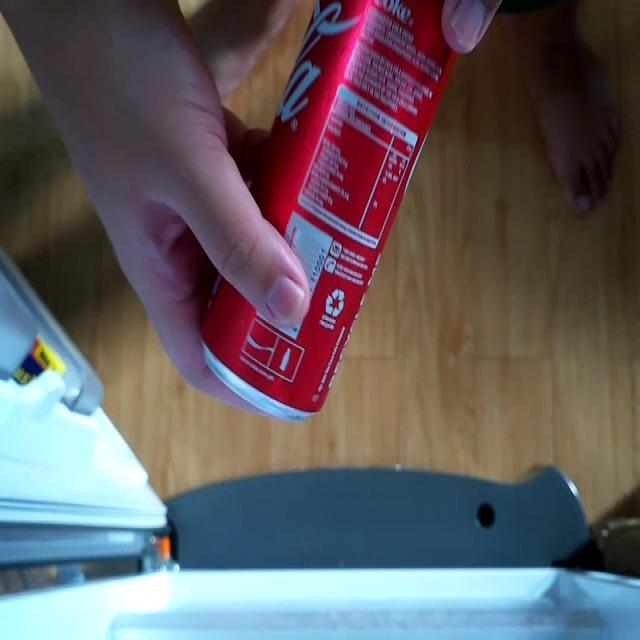coke: (192, 0, 462, 427)
